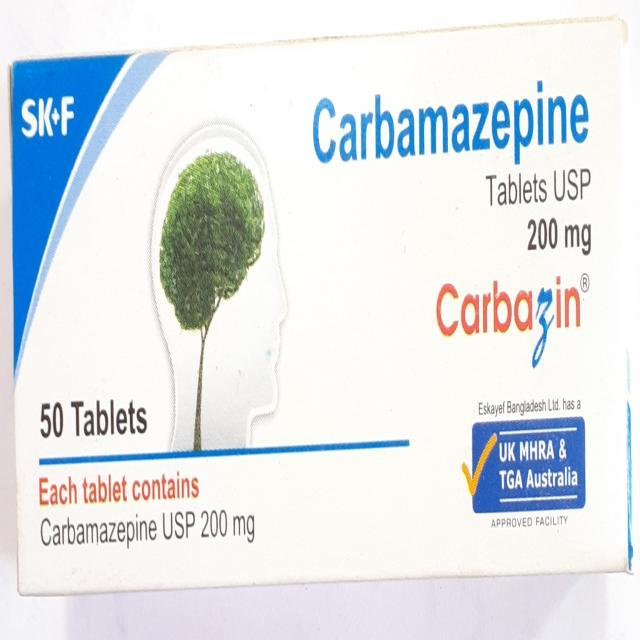drug-name: (434, 269, 599, 366)
